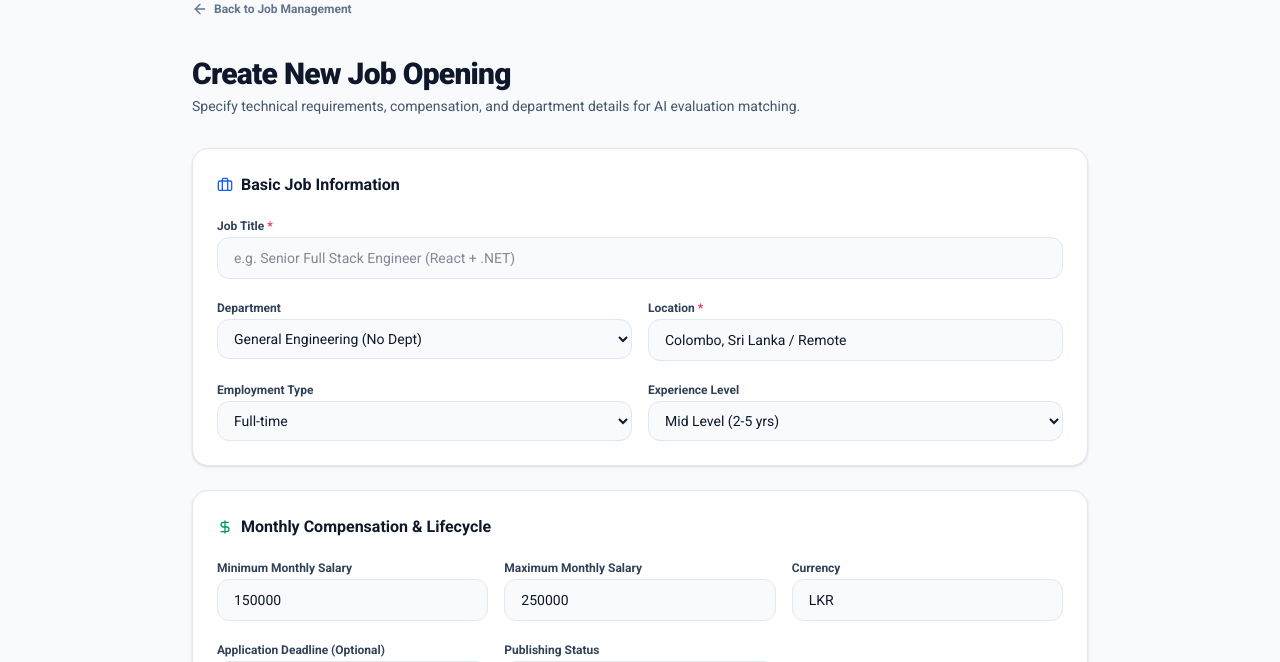
CreateEditJobPage - Form Validation and Error Handling › API submission & error states › displays error banner when job creation API rejects the payload
The width and height of the screenshot is (1280, 662).
Type "Senior Engineer" into the field with placeholder "e.g. Senior Full Stack Engineer (React + .NET)". click: (640, 258)
box: [217, 237, 1063, 279]
(page scrolled)
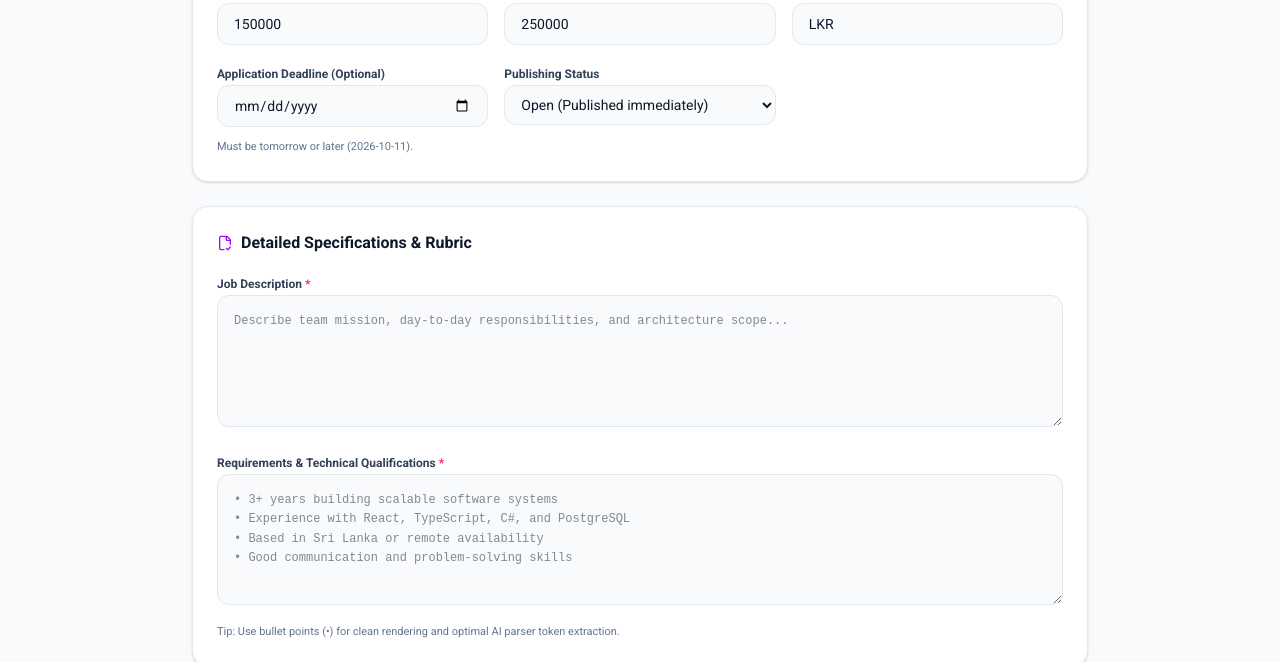
Type "This is a comprehensive job description with over twenty characters." into the text box with placeholder "Describe team mission". click: (640, 361)
box: [217, 295, 1063, 426]
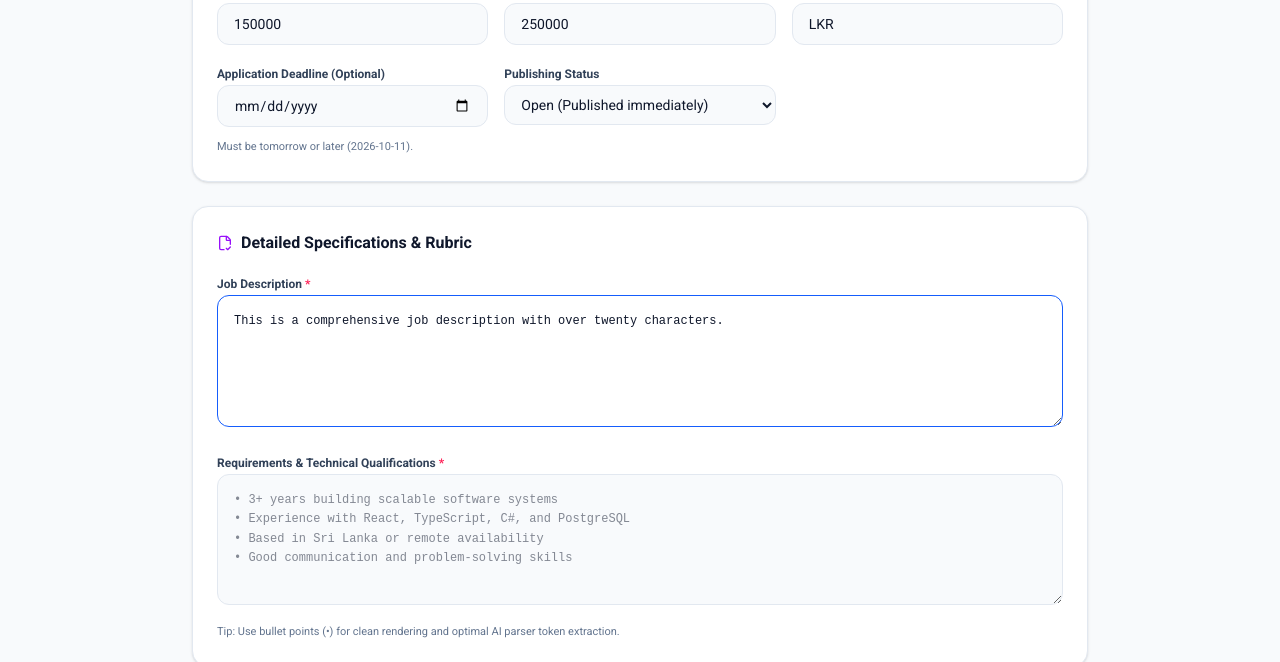
Type "React, TypeScript, Node.js" into the text box with placeholder "3+ years building scalable software systems". click: (640, 539)
box: [217, 474, 1063, 605]
(page scrolled)
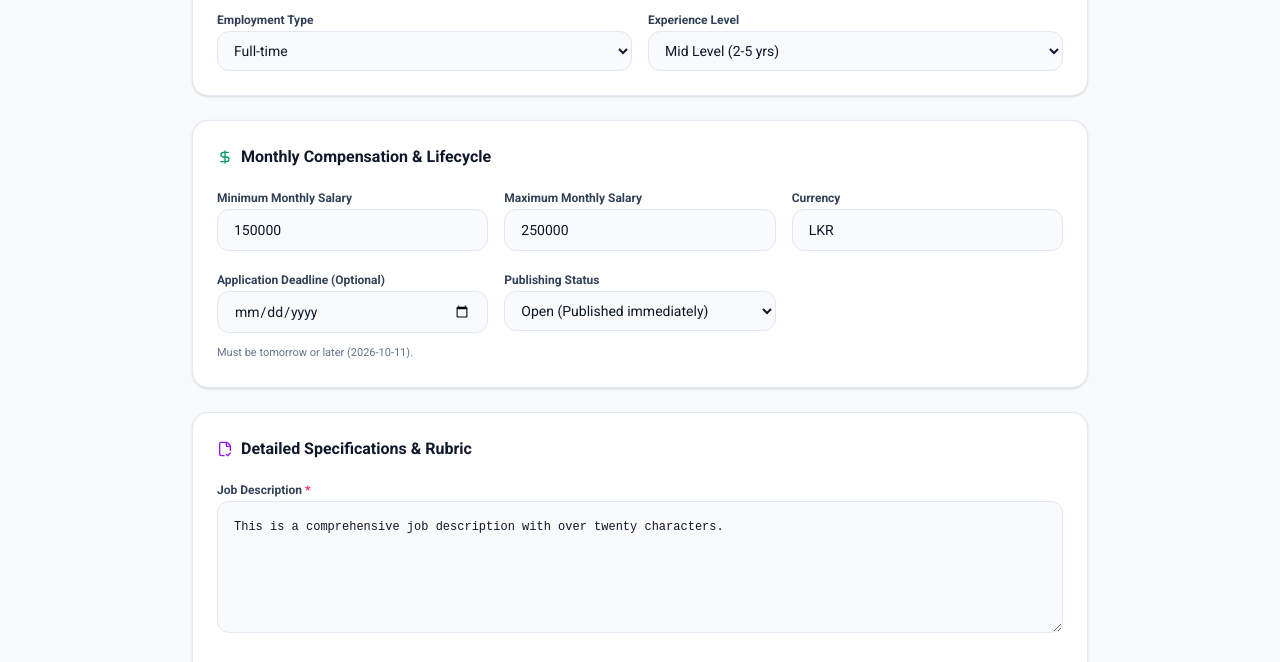
Submit the form
(page scrolled)
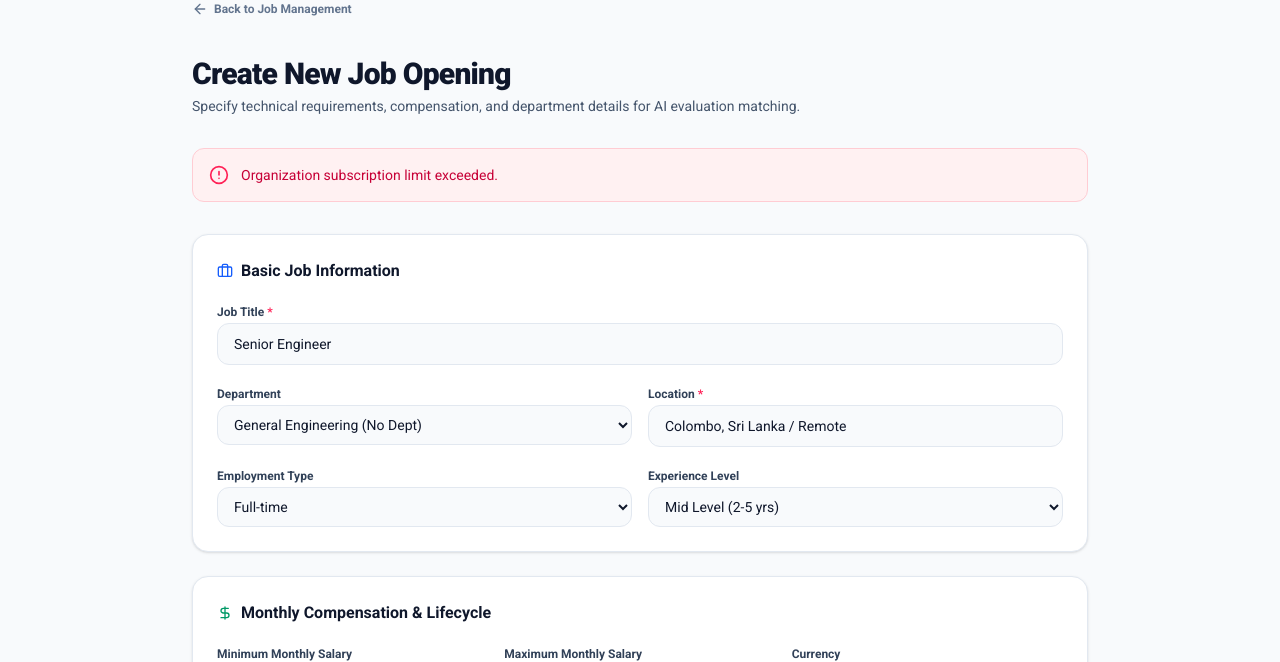
Expected: the text "Organization subscription limit exceeded." is shown, [241, 165, 498, 185]
